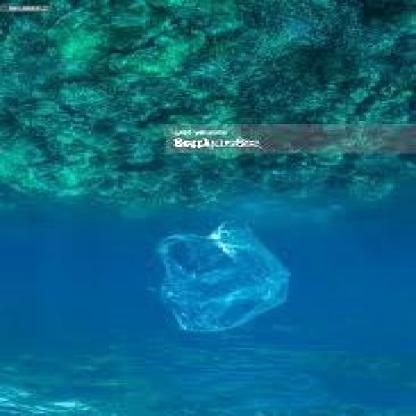pbag: (157, 216, 293, 335)
